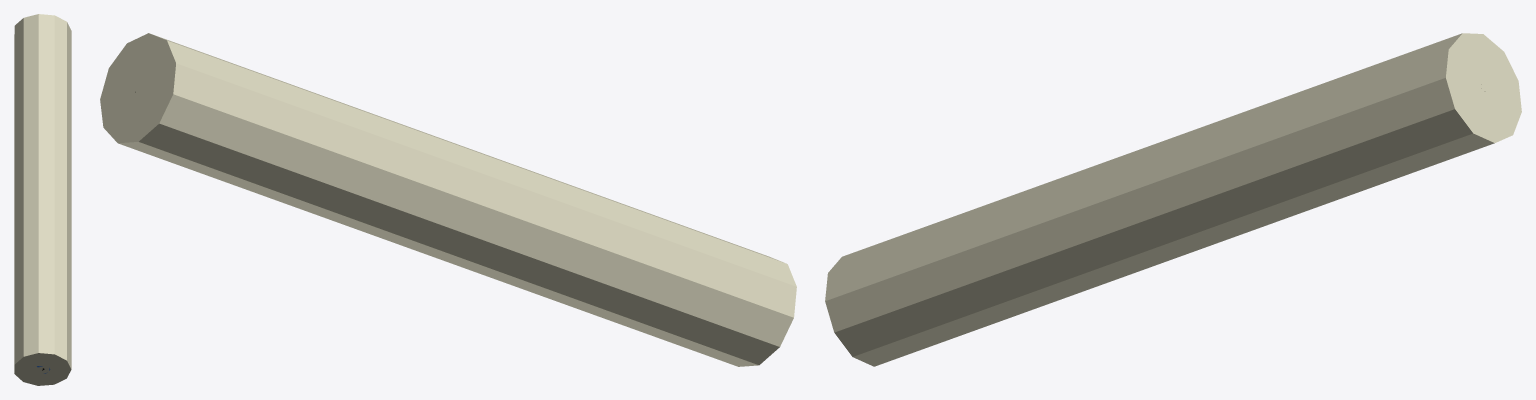
Rendered from tile_69.glb.
3 views of the same model, side by side, from view 1: azimuth 30°, elevation 25°; view 2: azimuth 150°, elevation 25°; view 3: azimuth 270°, elevation 25° (orthographic). The views are drawn at different scales.
Size of the model in its own units: 0.992 by 1.1 by 1.5.
